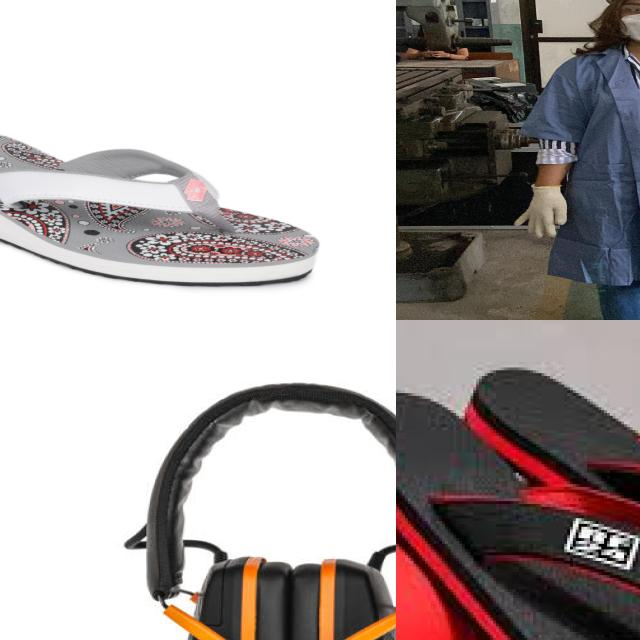Ear-protection: (98, 384, 396, 640)
Sandals: (396, 350, 640, 640), (0, 120, 320, 290)
face_mask: (618, 1, 640, 45)
glasses: (616, 3, 640, 21)
hand_glove: (506, 184, 574, 241)
person: (515, 0, 640, 320)
